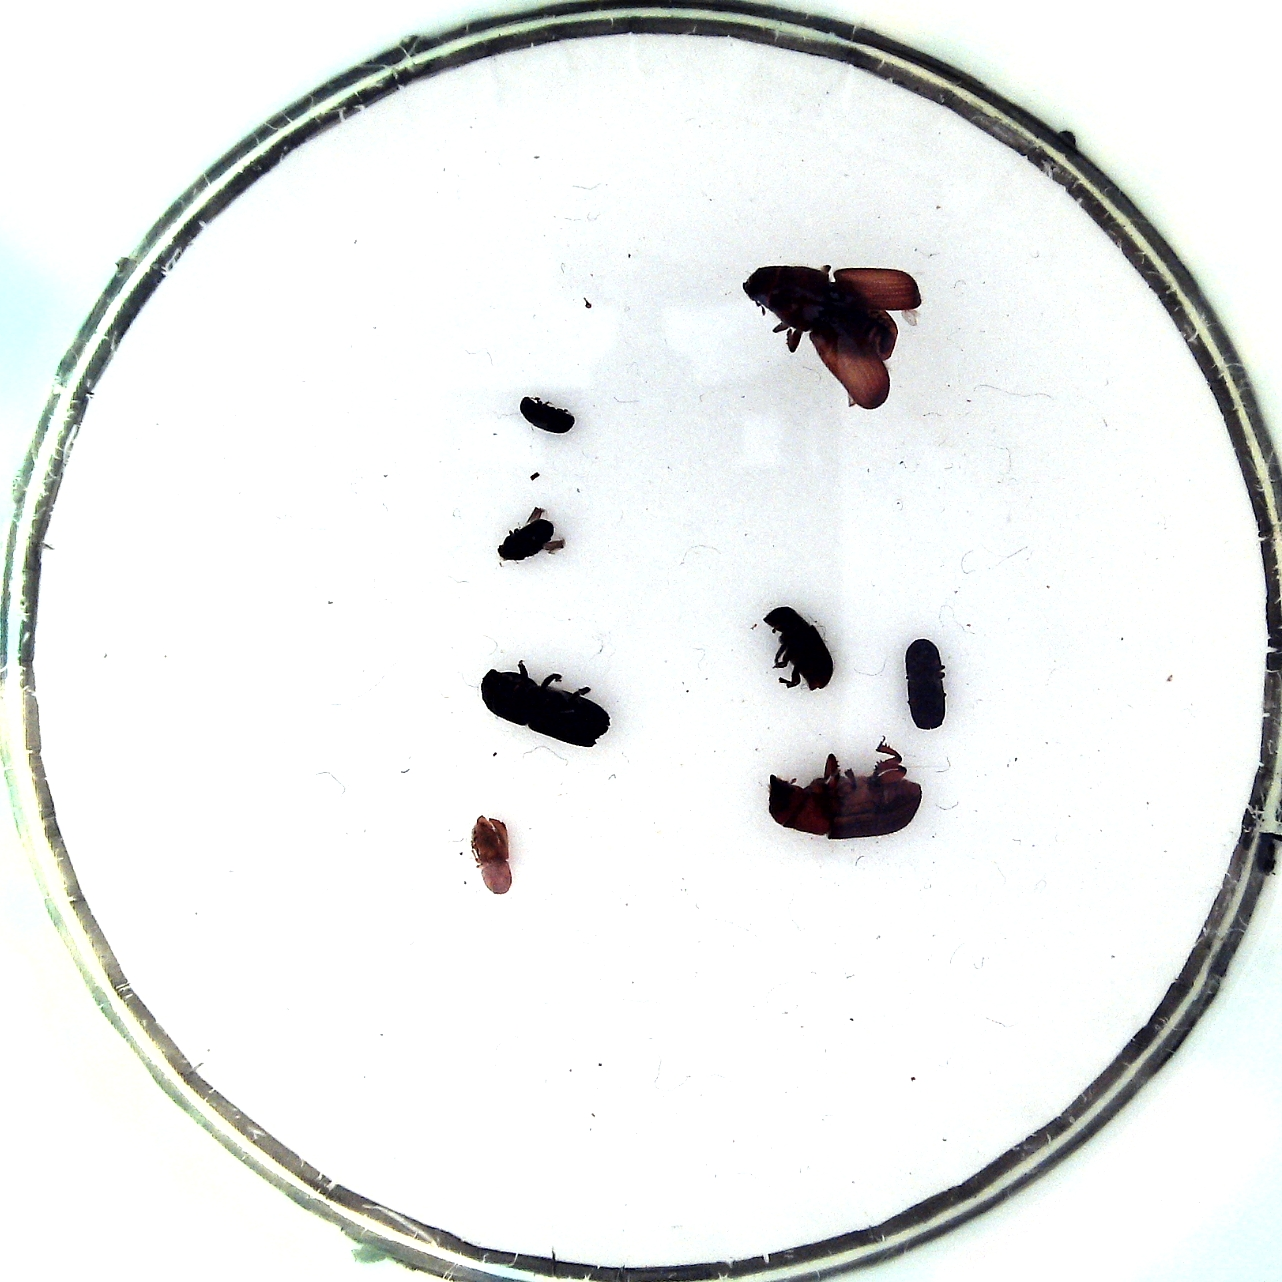Boerner: (481, 669, 610, 749)
Leconte: (742, 265, 899, 360), (768, 772, 922, 841)
acuminatus: (498, 518, 554, 562)
armandi: (762, 606, 834, 690)
coleoptera: (471, 815, 513, 895), (519, 394, 575, 436)
linnaeus: (905, 639, 946, 730)
